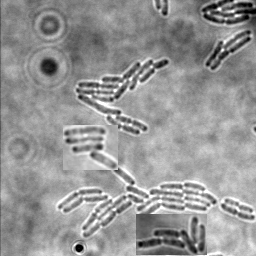Dividing: (219, 204, 255, 222), (223, 199, 253, 215)
Microcolony: (57, 167, 216, 238), (75, 59, 169, 136), (136, 214, 207, 255), (63, 125, 118, 170), (204, 30, 251, 72), (200, 1, 255, 26)
